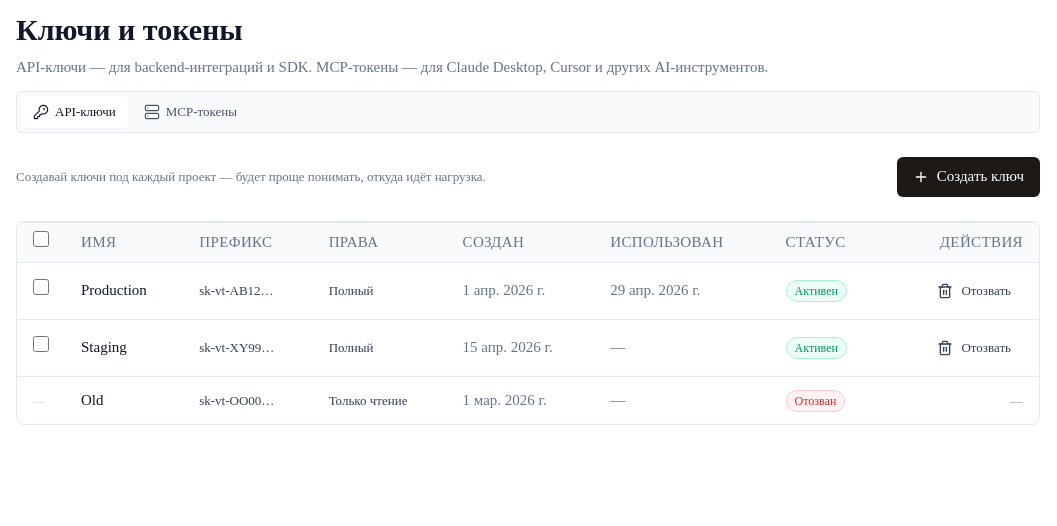
Test case: KeysPage bulk operations (Sprint 8) › select-all повторно — снимает выделение
Click the checkbox with test id "select-all-keys" at (41, 239), box top-left (33, 231), bottom-right (49, 247)
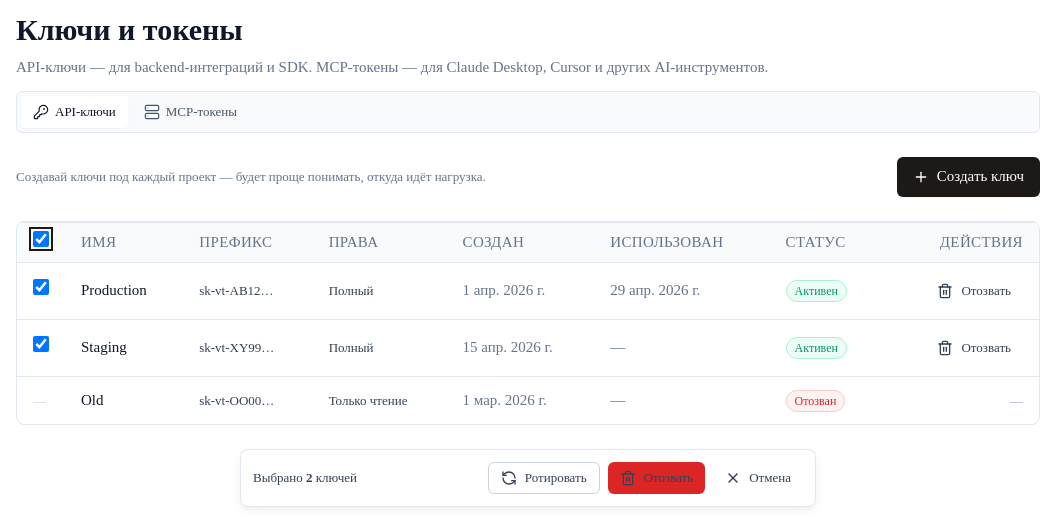
Click the checkbox with test id "select-all-keys" at (41, 239), box top-left (33, 231), bottom-right (49, 247)
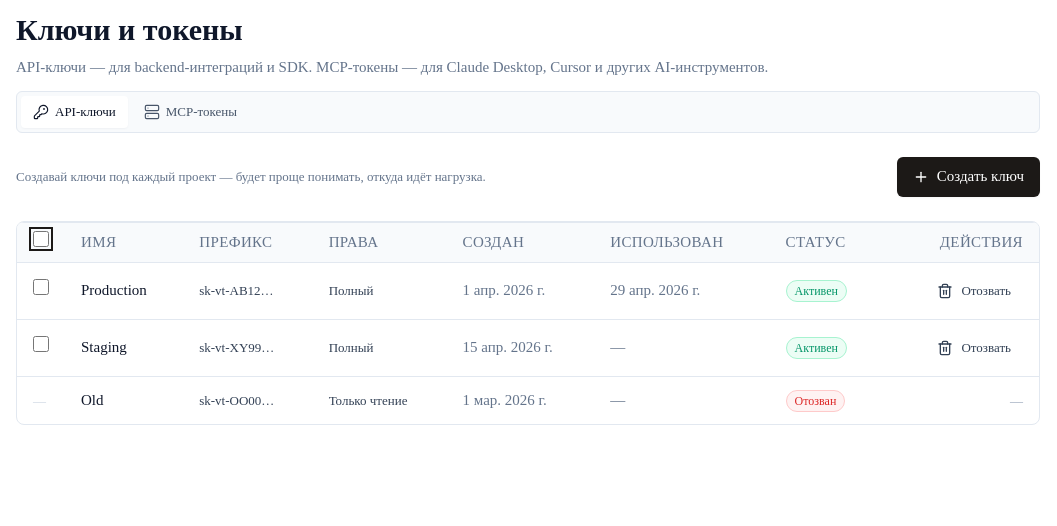
Expected: the element with test id "bulk-action-bar" is gone
